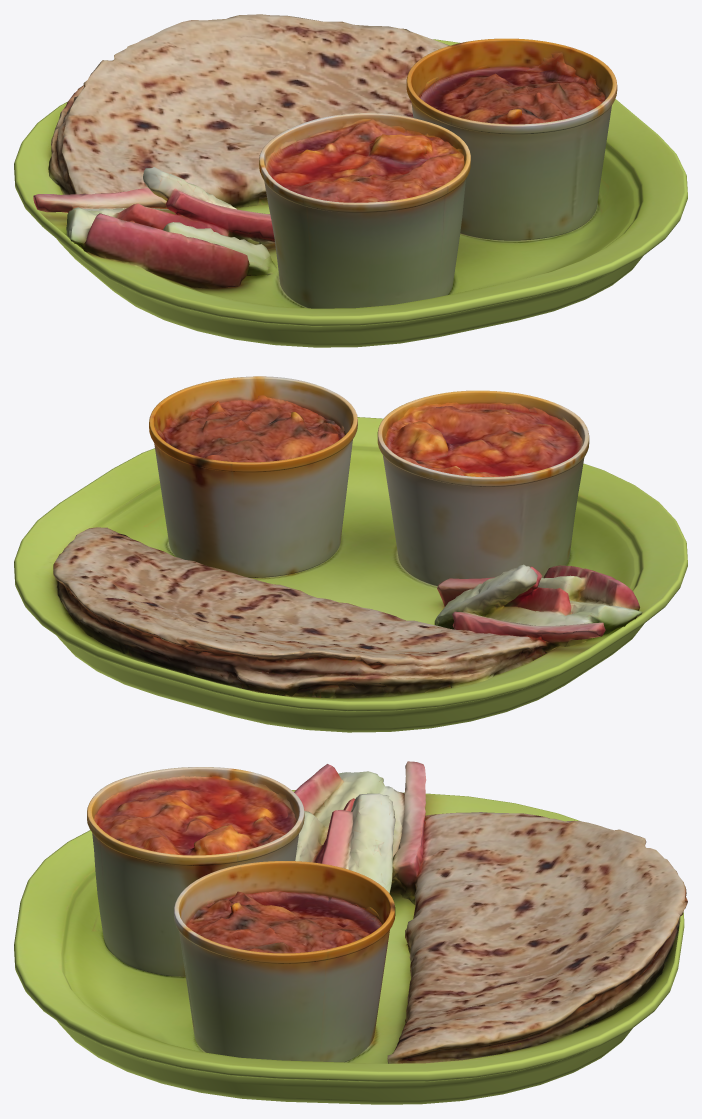
File: chapati-meat.glb
3 views of the same model, one above another, from view 1: azimuth 30°, elevation 25°; view 2: azimuth 150°, elevation 25°; view 3: azimuth 270°, elevation 25° (orthographic). The views are drawn at different scales.
Visible parts, largest first — view 1: source_0; view 2: source_0; view 3: source_0.
Boxes of the visible parts, x1,y1,x2,y2 form: source_0: (14,14,687,347); source_0: (14,376,687,732); source_0: (14,761,687,1104).
Bounding box in the file's own units: 0.2467 × 0.0579 × 0.245.
Materials: 1 (1 with a texture image).
